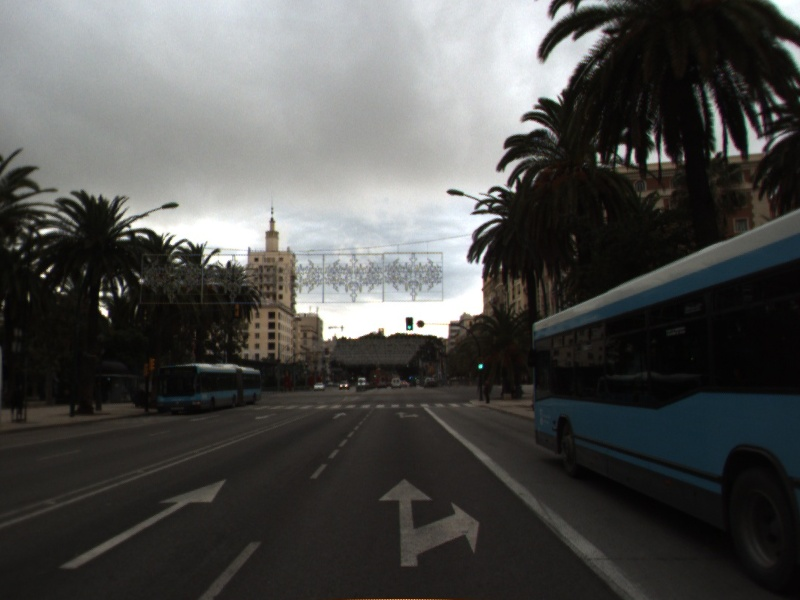STRAIGHT: (57, 477, 228, 571), (330, 411, 348, 421)
STRAIGHT_RIGHT: (377, 476, 481, 569), (393, 409, 421, 420)
